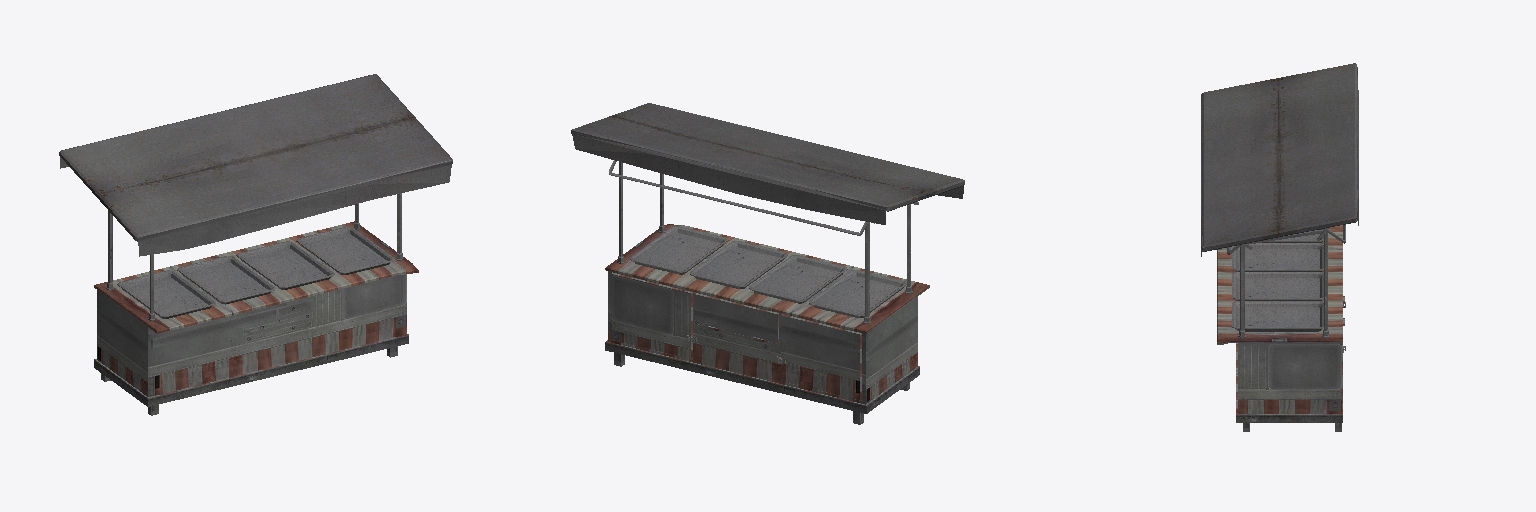
The picture shows the model from 3 angles: view 1: azimuth 30°, elevation 25°; view 2: azimuth 150°, elevation 25°; view 3: azimuth 270°, elevation 25°; orthographic projection.
Parts seen in each view (by area): view 1: city_stall01; view 2: city_stall01; view 3: city_stall01.
Part boxes in pixels (x1,y1,x2,y2): city_stall01: (59,74,452,415); city_stall01: (571,103,964,424); city_stall01: (1201,63,1358,431).
Bounding box in the file's own units: 160 × 112 × 69.14.
Materials: 1 (1 with a texture image).